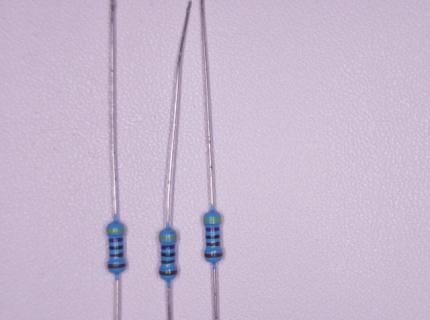Black band: (109, 245, 123, 250), (161, 252, 175, 257), (206, 234, 220, 239)
Brown band: (159, 270, 177, 276), (204, 253, 222, 258), (108, 263, 126, 268), (206, 242, 220, 246), (161, 260, 175, 264), (109, 253, 123, 257)
Violet band: (109, 237, 123, 243), (161, 245, 175, 249), (206, 227, 220, 231)
Yellow band: (106, 228, 124, 233), (159, 235, 177, 240), (204, 218, 221, 222)
